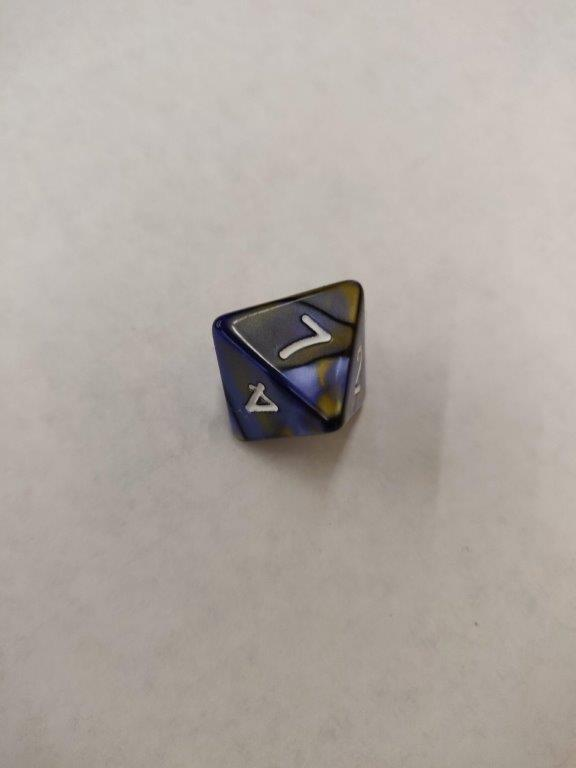d8-7: (214, 280, 369, 444)
